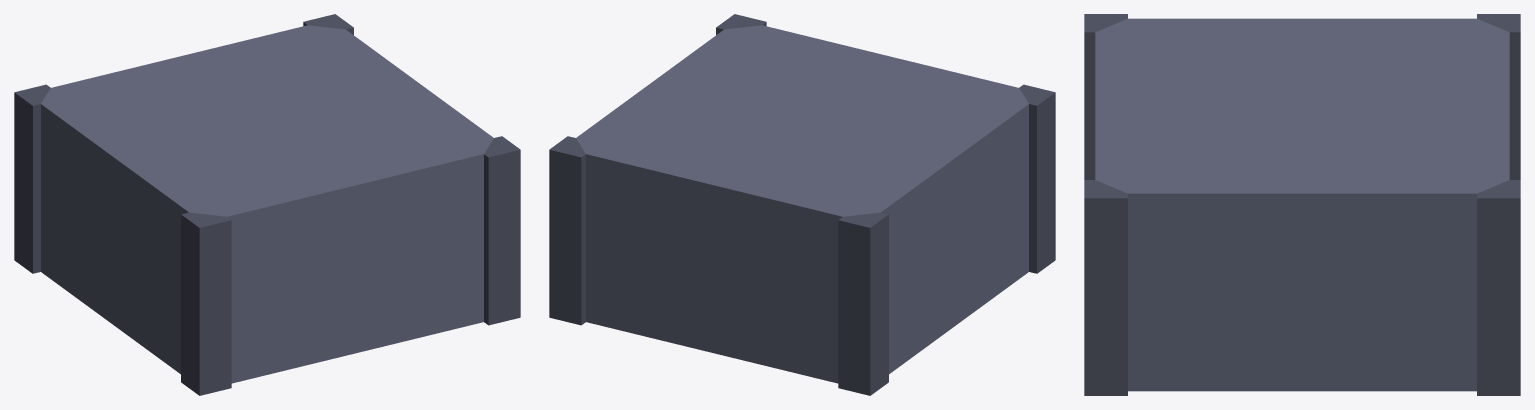
File: wall-wood-block-half.glb
3 views of the same model, side by side, from view 1: azimuth 30°, elevation 25°; view 2: azimuth 150°, elevation 25°; view 3: azimuth 270°, elevation 25° (orthographic). The views are drawn at different scales.
Visible parts, largest first — view 1: wall-wood-block-half; view 2: wall-wood-block-half; view 3: wall-wood-block-half.
Boxes of the visible parts, x1=… form: wall-wood-block-half: x1=14, y1=14, x2=520, y2=395; wall-wood-block-half: x1=549, y1=14, x2=1055, y2=395; wall-wood-block-half: x1=1084, y1=14, x2=1520, y2=395.
Bounding box in the file's own units: 1 × 0.5 × 1.
1 material, 1 textured.
